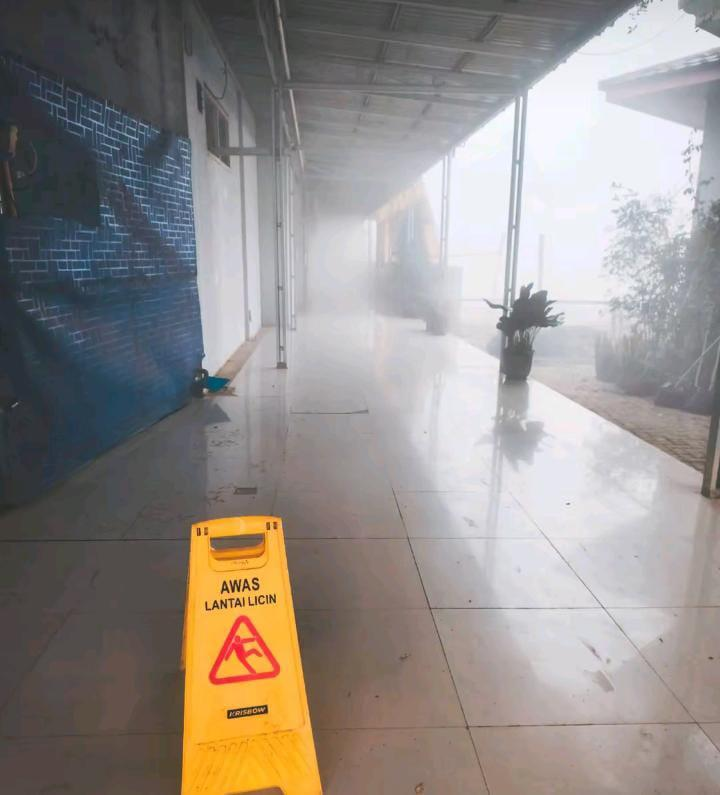Deteksi-Objek-Citra-Berasap: (279, 133, 720, 365)
Gedung: (0, 0, 720, 795)
Vegetasi: (593, 166, 720, 412), (484, 281, 566, 385)
